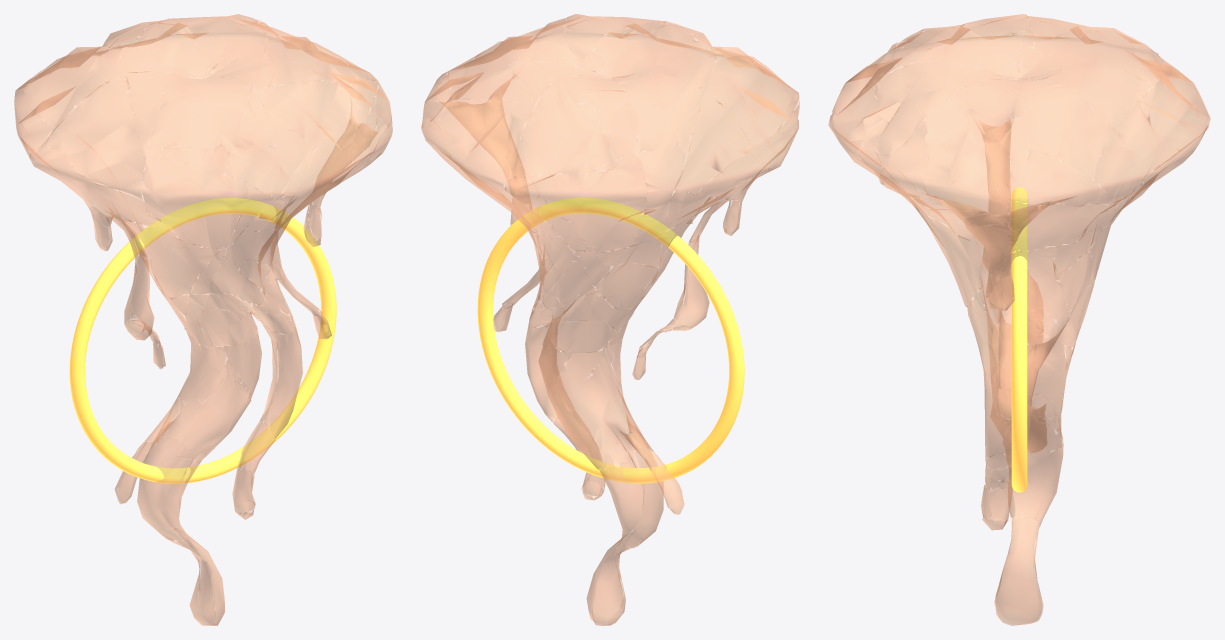
The model's file is art.glb.
3 views of the same model, side by side, from view 1: azimuth 30°, elevation 25°; view 2: azimuth 150°, elevation 25°; view 3: azimuth 270°, elevation 25° (orthographic).
Visible parts, largest first — view 1: Mesh_0, Inner orbit; view 2: Mesh_0, Inner orbit; view 3: Mesh_0, Inner orbit.
Boxes of the visible parts, x1=… form: Mesh_0: x1=14, y1=14, x2=392, y2=625; Inner orbit: x1=69, y1=198, x2=336, y2=483; Mesh_0: x1=421, y1=14, x2=799, y2=625; Inner orbit: x1=477, y1=198, x2=744, y2=483; Mesh_0: x1=828, y1=14, x2=1210, y2=625; Inner orbit: x1=1011, y1=187, x2=1027, y2=492.
Size of the model in its own units: 1.75 by 2.81 by 1.71.
